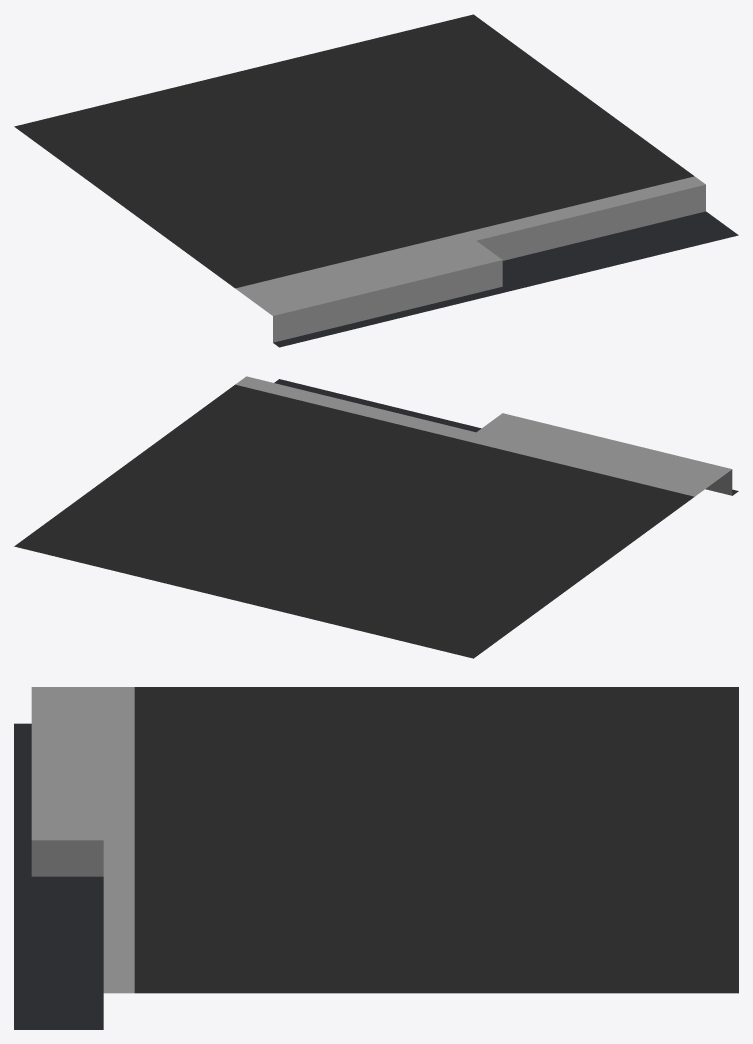
The model's file is Sidewalk_Connection.FBX.
3 views of the same model, one above another, from view 1: azimuth 30°, elevation 25°; view 2: azimuth 150°, elevation 25°; view 3: azimuth 270°, elevation 25° (orthographic). The views are drawn at different scales.
Visible parts, largest first — view 1: Sidewalk_Connection; view 2: Sidewalk_Connection; view 3: Sidewalk_Connection.
Part boxes in pixels (x1,y1,x2,y2): Sidewalk_Connection: (14,14,738,347); Sidewalk_Connection: (14,376,738,658); Sidewalk_Connection: (14,687,738,1029).
Size of the model in its own units: 180 by 10 by 180.
